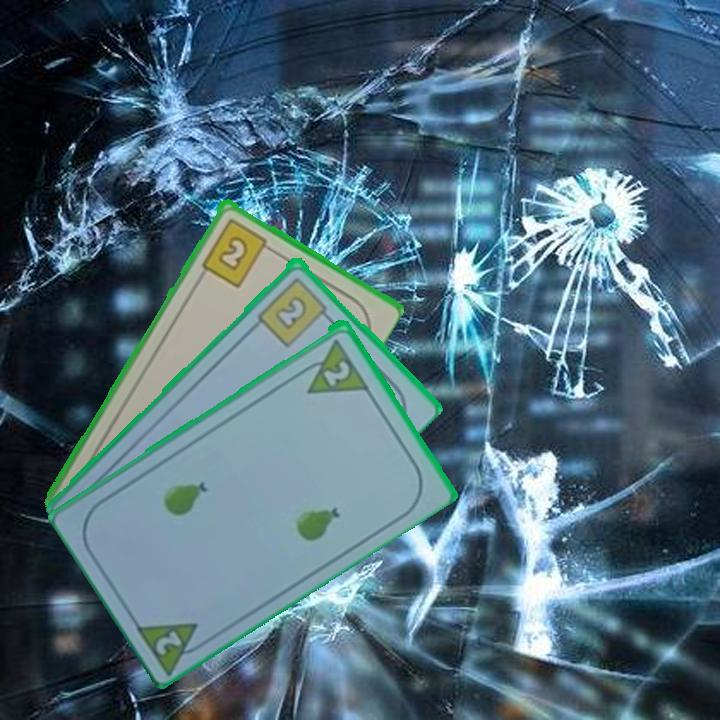2b: (254, 272, 335, 349), (197, 214, 277, 290)
2p: (293, 334, 371, 397), (131, 618, 214, 675)
